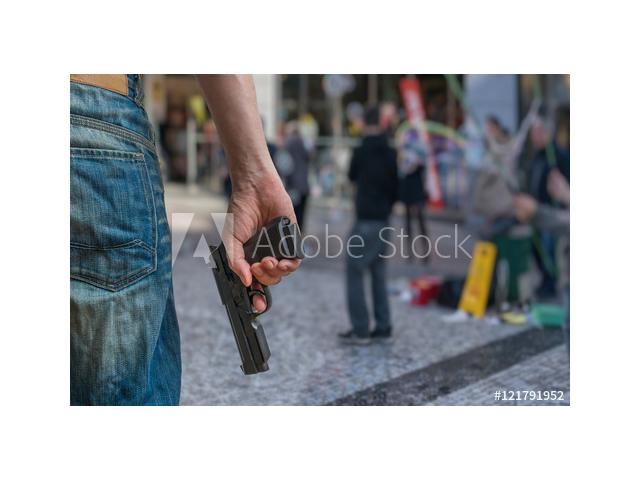pistol: (203, 213, 305, 382)
